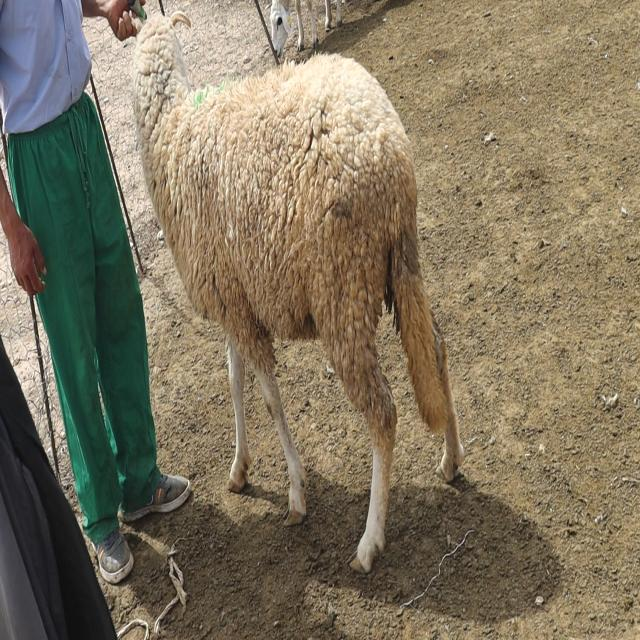Score_2: (134, 13, 464, 572)
